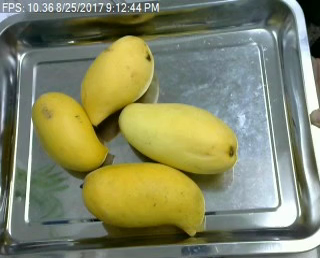Mango: (82, 162, 209, 238), (119, 100, 238, 175), (81, 33, 154, 127), (33, 89, 113, 168)
